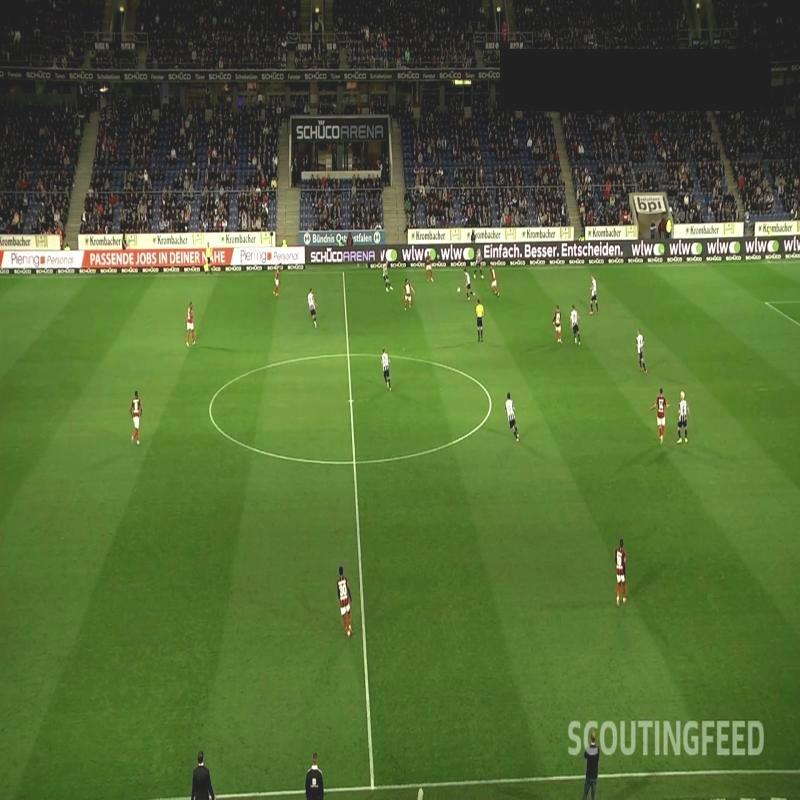13: (335, 264, 352, 282)
14: (340, 347, 355, 364)
15: (346, 453, 363, 473)
16: (366, 776, 382, 800)
9: (759, 294, 773, 308)
c: (202, 404, 218, 419), (482, 394, 496, 408)
